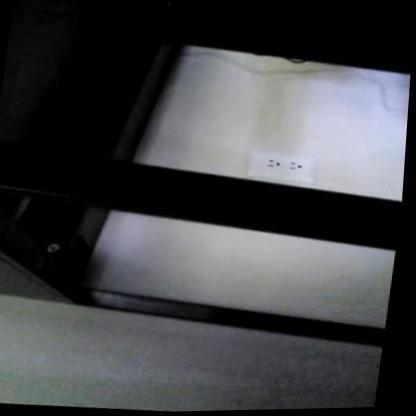OUTLET: (247, 145, 320, 185)
